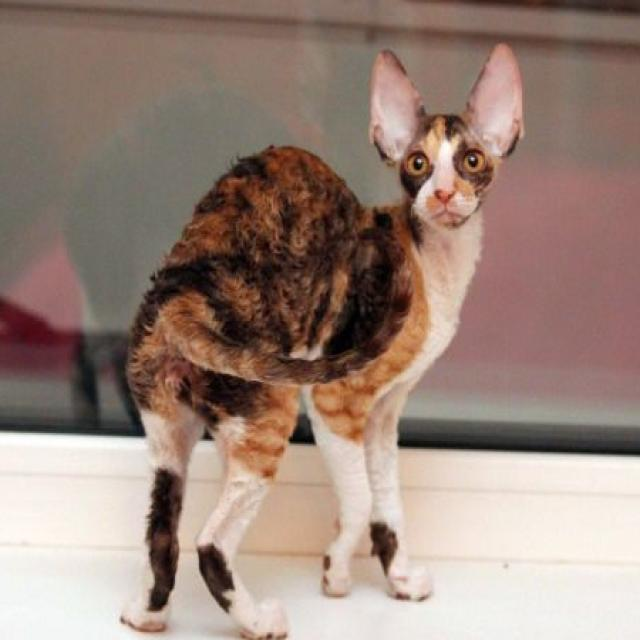Cornish Rex: (113, 36, 530, 640)
